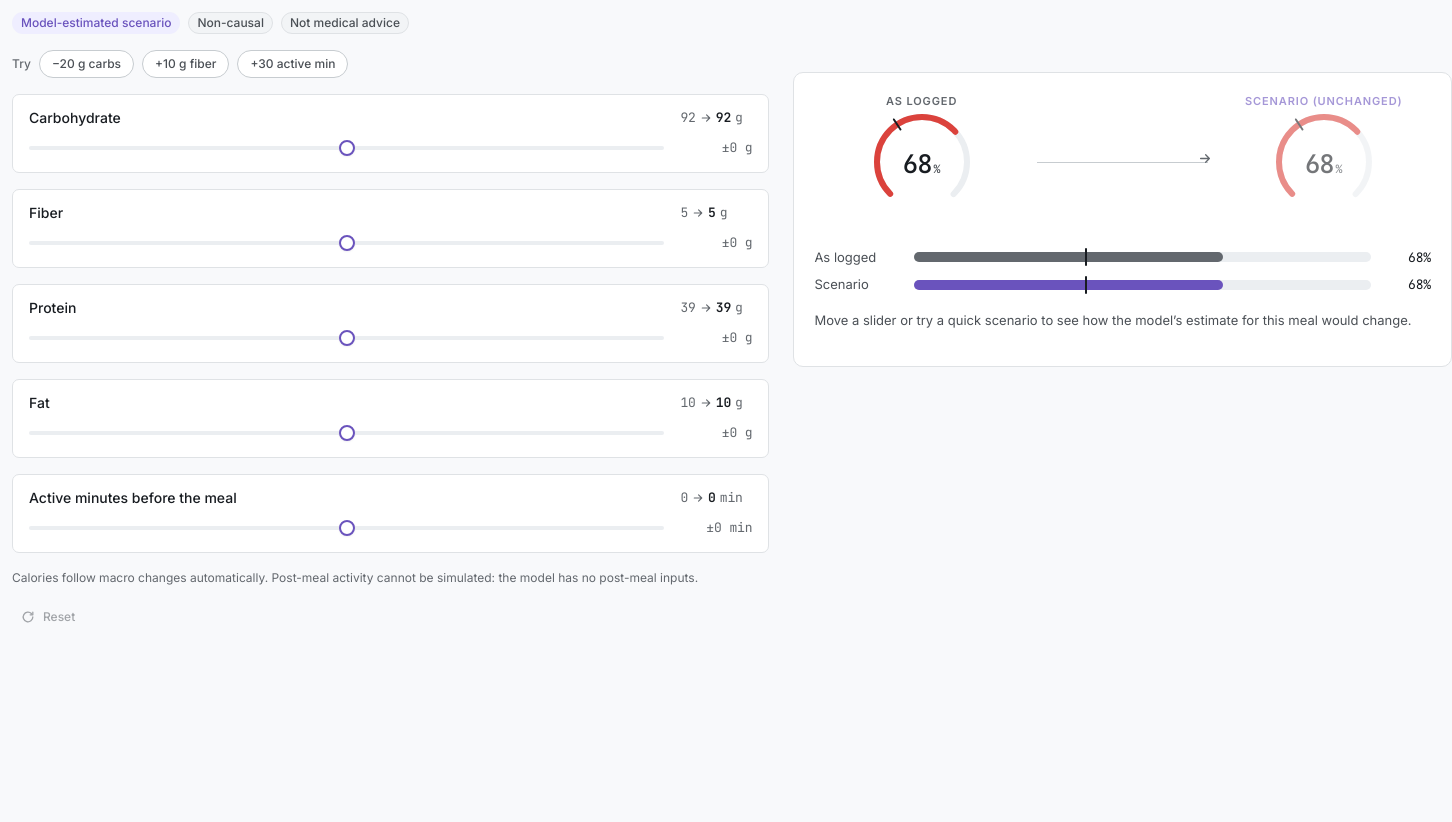
what-if comparison › collapses to no estimate outside training support, with the real trained range
Set the slider labelled "Carbohydrate" to "100" at [656, 148], box [29,136,664,160]
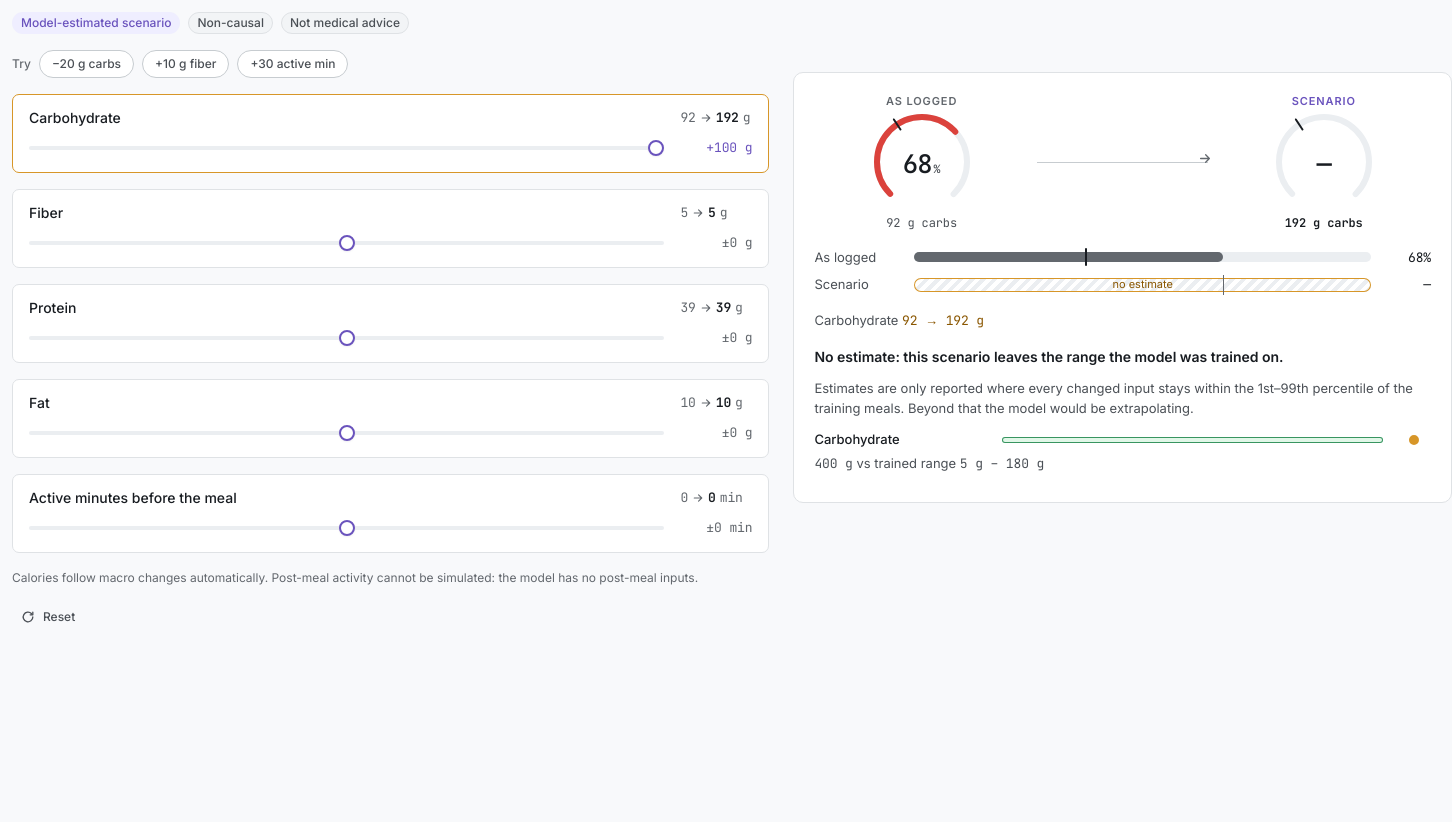
expect the text "No estimate: this scenario leaves the range" is shown: met, box [814,348,1284,365]
expect the picture named "Scenario" reads "—": met, box [1317,147,1331,181]
expect the text "5 g – 180 g" is shown: met, box [960,454,1044,472]
